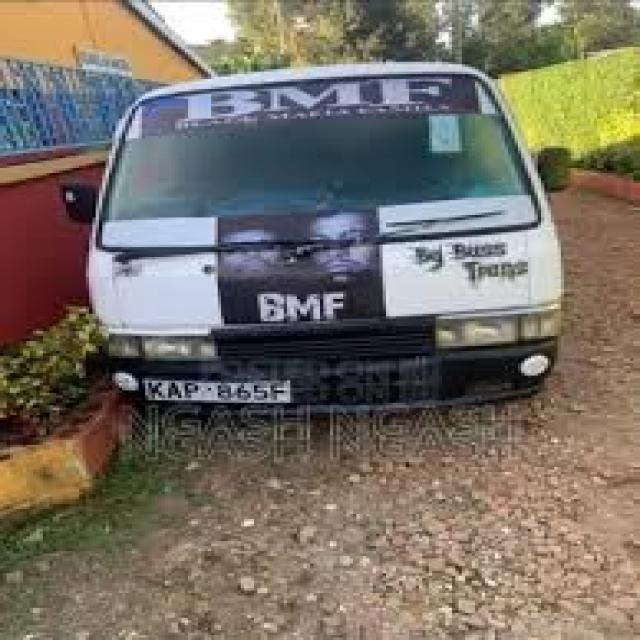matatu: (48, 46, 640, 498)
